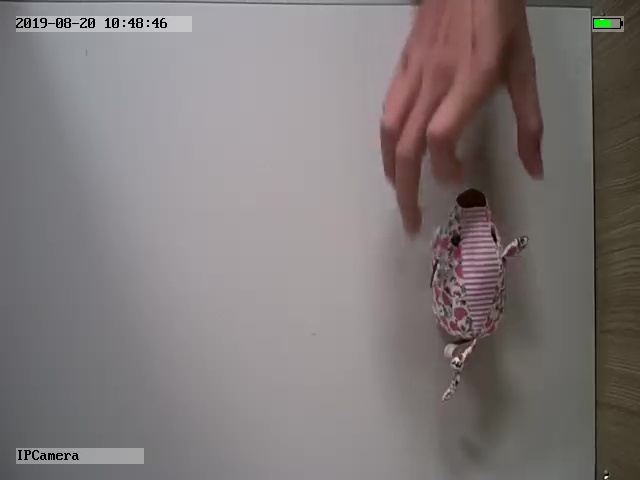pig: (426, 187, 530, 400)
